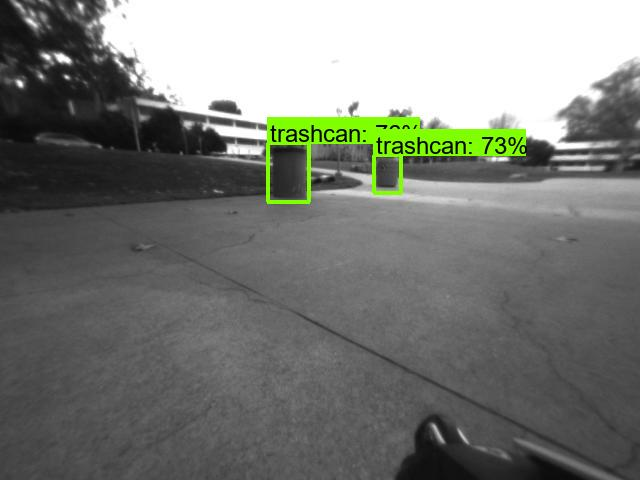trashcan: (272, 145, 311, 195), (375, 157, 399, 190)
